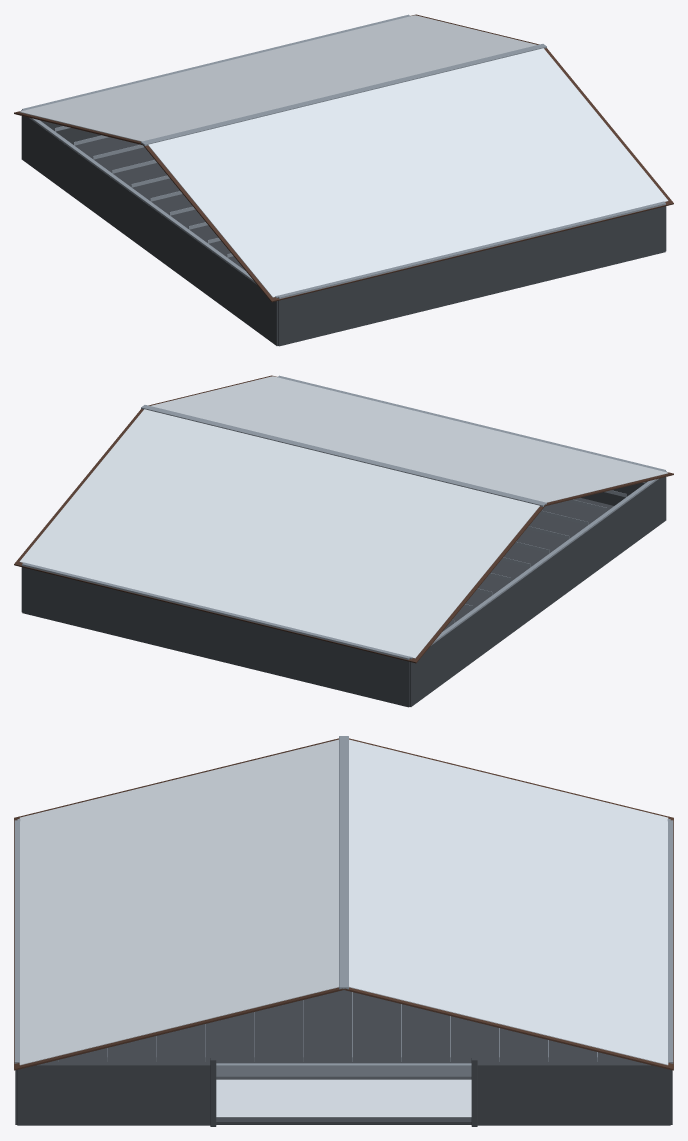
Rendered from Station_Hangar_0_0.fbx.
3 renders of one model, top to bottom at view 1: azimuth 30°, elevation 25°; view 2: azimuth 150°, elevation 25°; view 3: azimuth 270°, elevation 25°, orthographic. The views are drawn at different scales.
Parts seen in each view (by area): view 1: Station_Hangar_0_0; view 2: Station_Hangar_0_0; view 3: Station_Hangar_0_0.
Boxes of the visible parts, box(x1,y1,x2,y2) form: Station_Hangar_0_0: box(14, 14, 673, 346); Station_Hangar_0_0: box(14, 375, 673, 707); Station_Hangar_0_0: box(14, 736, 673, 1126).
Bounding box in the file's own units: 7280 × 1935 × 8082.
